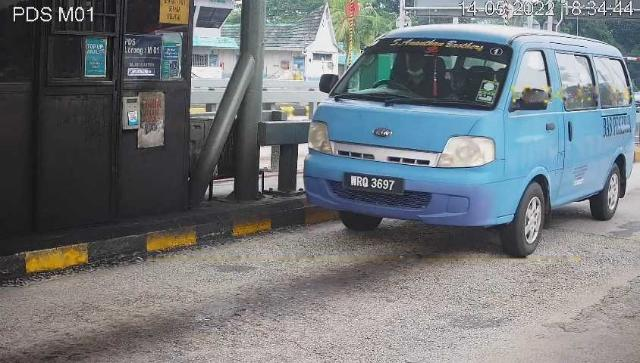License_Plate: (343, 171, 405, 197)
van: (306, 24, 638, 258)
